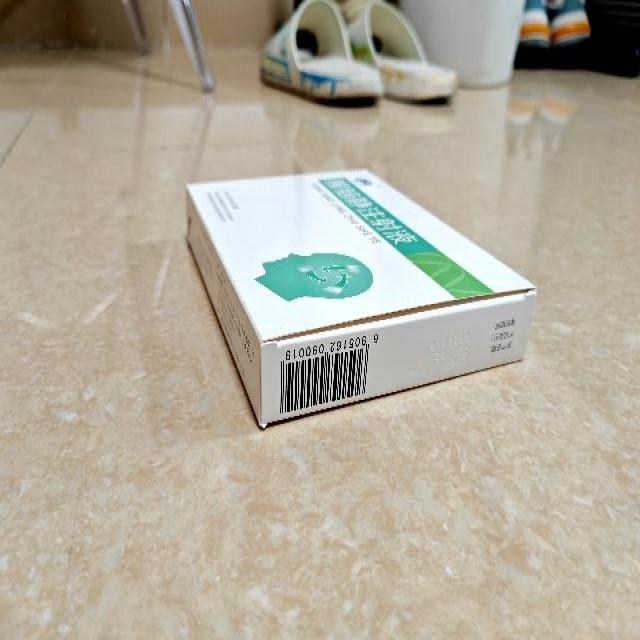box: (186, 167, 536, 430)
